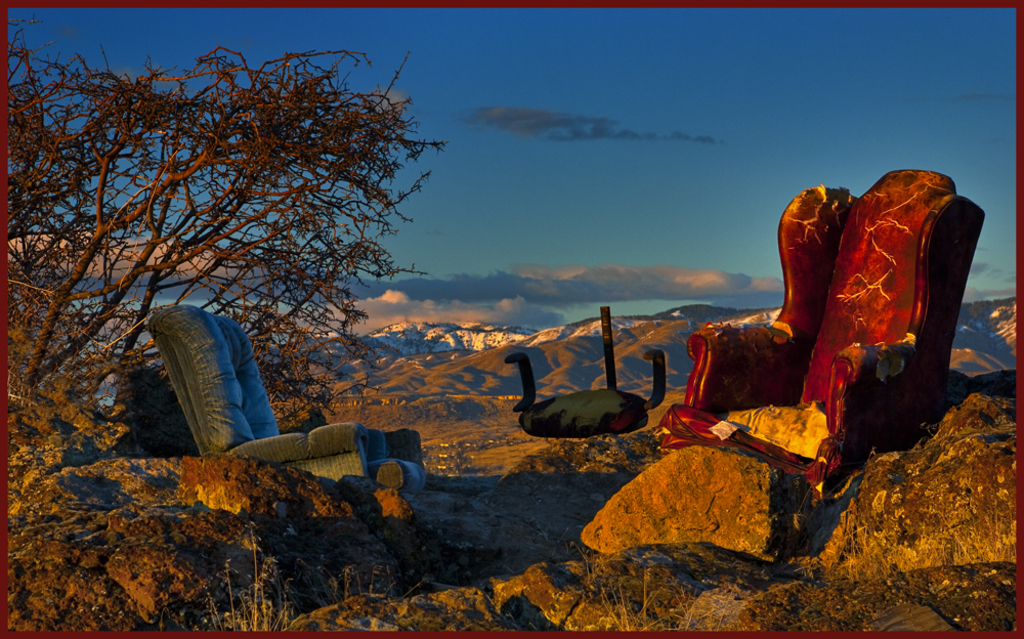Tree: (0, 17, 453, 396)
